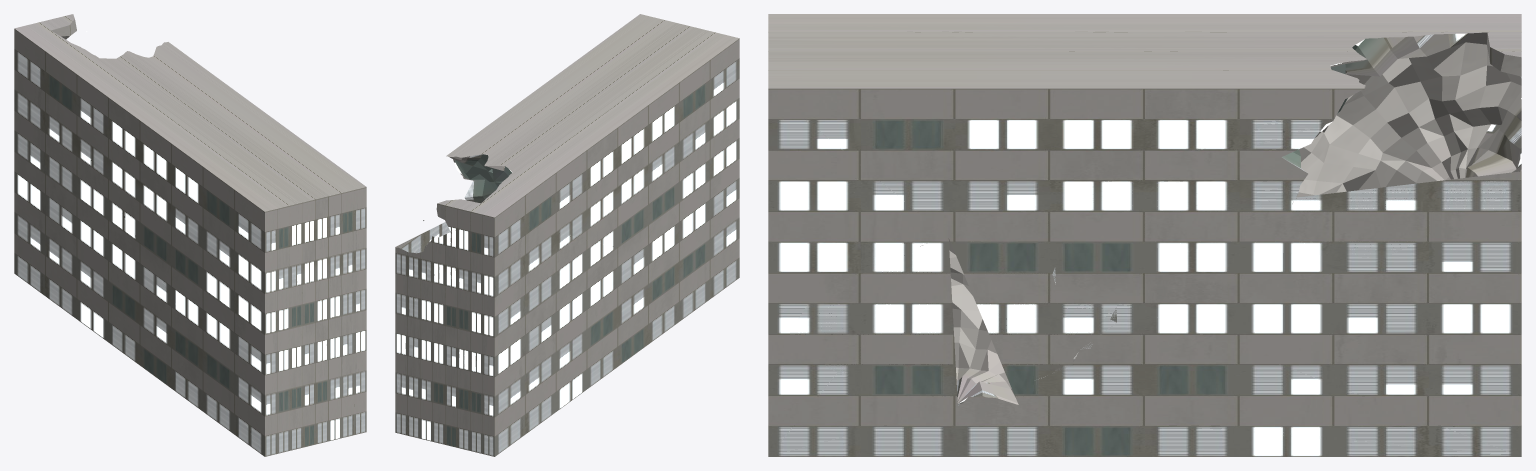
Rendered from Building_Wide_Broken.fbx.
The picture shows the model from 3 angles, left to right: view 1: azimuth 30°, elevation 25°; view 2: azimuth 150°, elevation 25°; view 3: azimuth 270°, elevation 25°; orthographic projection. The views are drawn at different scales.
Parts seen in each view (by area): view 1: Cube.003; view 2: Cube.003; view 3: Cube.003.
Part boxes in pixels (x1=…): Cube.003: x1=14, y1=14, x2=366, y2=456; Cube.003: x1=395, y1=14, x2=739, y2=456; Cube.003: x1=768, y1=14, x2=1521, y2=456.
Bounding box in the file's own units: 752 × 1727 × 3203.
1 material, 1 textured.
